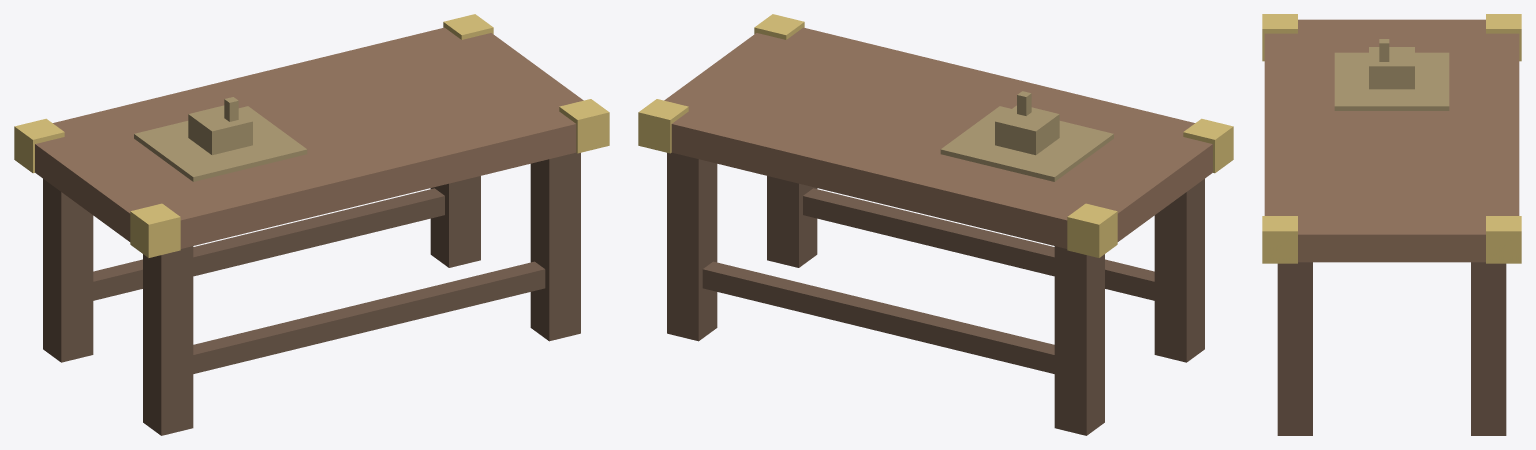
The model's file is alchemy_table.glb.
3 renders of one model, left to right at view 1: azimuth 30°, elevation 25°; view 2: azimuth 150°, elevation 25°; view 3: azimuth 270°, elevation 25°, orthographic. The views are drawn at different scales.
Parts seen in each view (by area): view 1: TableWoodTop, TableWoodFrame, TableEquipment, TableBrassHardware; view 2: TableWoodTop, TableWoodFrame, TableEquipment, TableBrassHardware; view 3: TableWoodTop, TableWoodFrame, TableEquipment, TableBrassHardware.
Part boxes in pixels (box(x1,y1,x2,y2)): TableWoodTop: box(35, 27, 583, 248); TableWoodFrame: box(43, 152, 580, 435); TableEquipment: box(134, 97, 307, 181); TableBrassHardware: box(14, 14, 609, 257); TableWoodTop: box(664, 27, 1212, 248); TableWoodFrame: box(667, 152, 1204, 435); TableEquipment: box(940, 91, 1113, 181); TableBrassHardware: box(638, 14, 1233, 257); TableWoodTop: box(1264, 19, 1519, 262); TableWoodFrame: box(1277, 262, 1506, 435); TableEquipment: box(1334, 39, 1449, 110); TableBrassHardware: box(1262, 14, 1521, 263).
Size of the model in its own units: 2.02 by 1.11 by 1.02.
